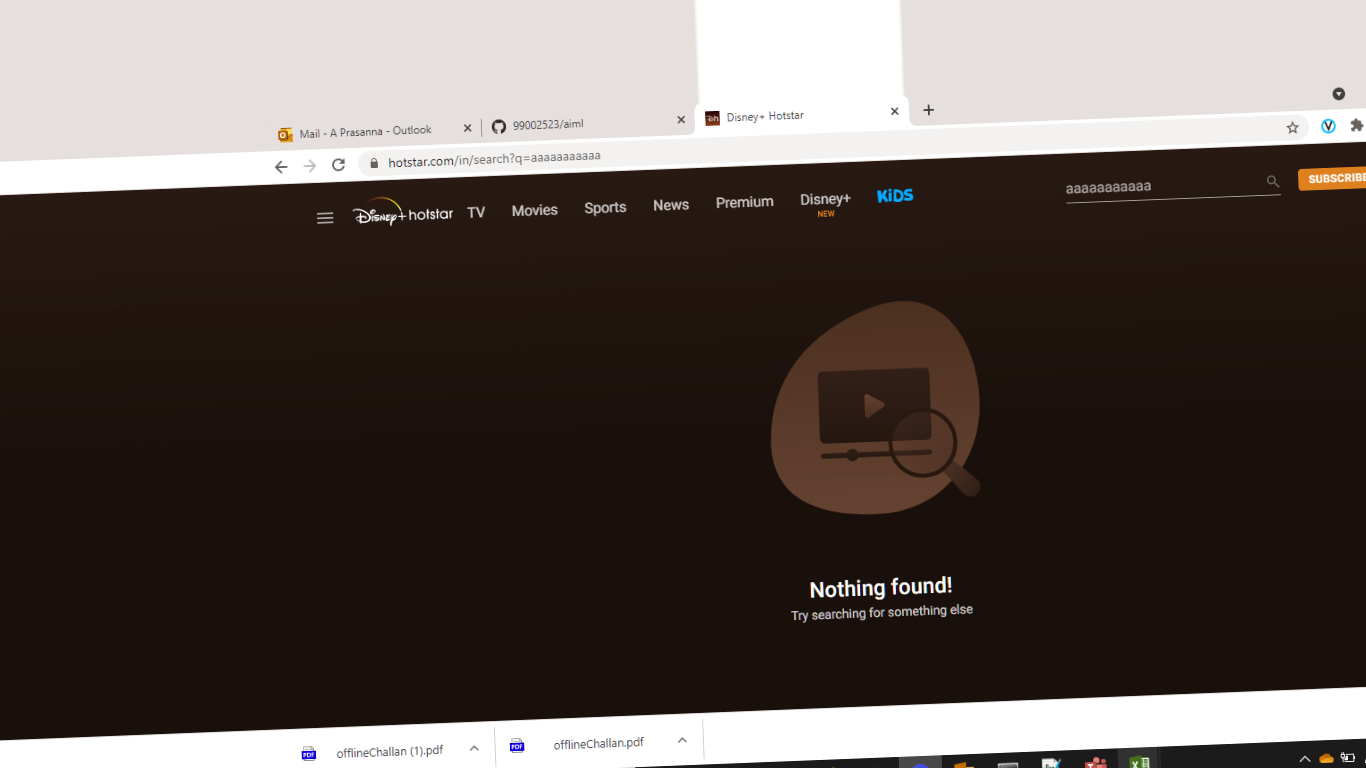noresultsfound: (777, 557, 998, 663)
searchicon: (1248, 171, 1289, 197)
searchtextbox: (1051, 167, 1288, 214)
